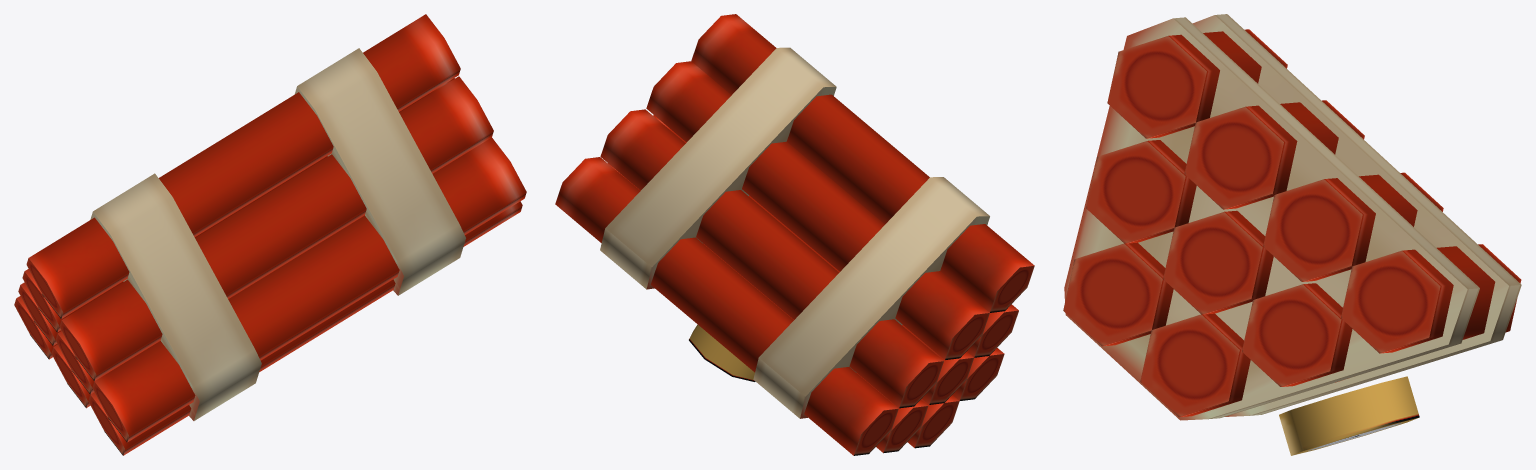
Rendered from Statham_plus_ZhaDan.FBX.
3 views of the same model, side by side, from view 1: azimuth 30°, elevation 25°; view 2: azimuth 150°, elevation 25°; view 3: azimuth 270°, elevation 25° (orthographic). The views are drawn at different scales.
Parts seen in each view (by area): view 1: ZhaDan; view 2: ZhaDan; view 3: ZhaDan.
Boxes of the visible parts, x1,y1,x2,y2 form: ZhaDan: [14, 14, 526, 455]; ZhaDan: [555, 14, 1034, 455]; ZhaDan: [1063, 14, 1521, 455].
Bounding box in the file's own units: 3.03 × 2.48 × 1.84.
